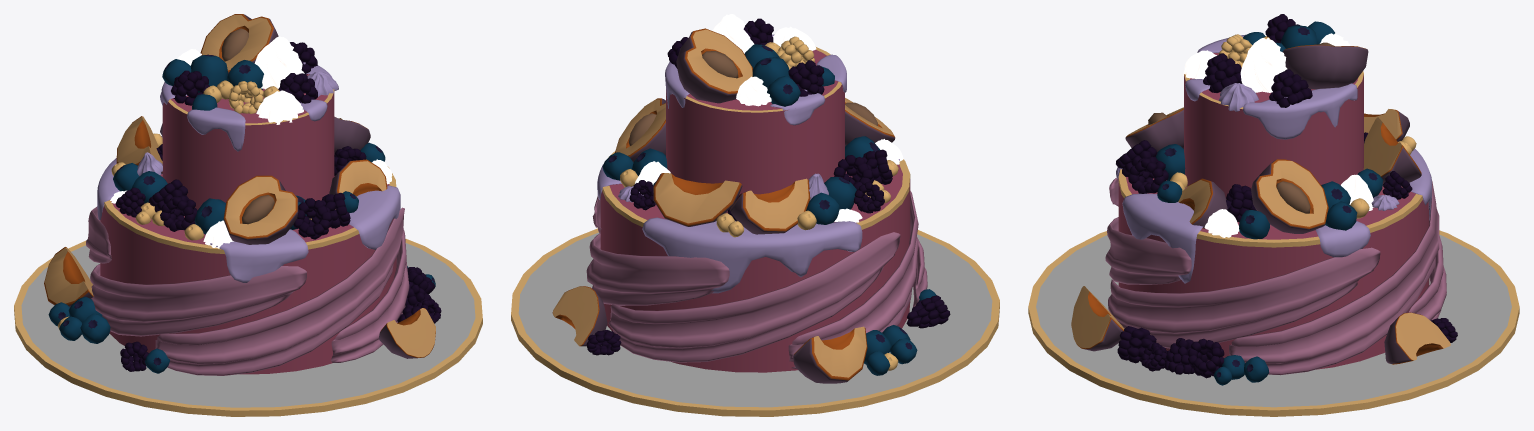
The model's file is fruit_cake_draft.glb.
3 renders of one model, left to right at view 1: azimuth 30°, elevation 25°; view 2: azimuth 150°, elevation 25°; view 3: azimuth 270°, elevation 25°, orthographic. The views are drawn at different scales.
Parts seen in each view (by area): view 1: pCylinder3, polySurface1, pCylinder2, polySurface20, polySurface2, polySurface24, pSphere6, polySurface21, pSphere7, polySurface25, pSphere25, pSphere10 (+30 smaller); view 2: pCylinder3, pCylinder2, polySurface23, polySurface1, polySurface24, polySurface22, pSphere7, polySurface2, pSphere9, pSphere10, pSphere8, pSphere26 (+27 smaller); view 3: pCylinder3, polySurface1, polySurface21, pCylinder2, polySurface22, polySurface24, pSphere18, polySurface20, polySurface25, pSphere7, pSphere26, pSphere25 (+29 smaller).
Boxes of the visible parts, bbox=[...] form: pCylinder3: bbox=[14, 238, 482, 416]; polySurface1: bbox=[100, 166, 396, 374]; pCylinder2: bbox=[162, 74, 334, 209]; polySurface20: bbox=[155, 207, 404, 375]; polySurface2: bbox=[90, 264, 306, 336]; polySurface24: bbox=[97, 136, 400, 282]; pSphere6: bbox=[223, 175, 298, 244]; polySurface21: bbox=[331, 230, 409, 362]; pSphere7: bbox=[200, 14, 278, 74]; polySurface25: bbox=[160, 62, 332, 151]; pSphere25: bbox=[379, 308, 435, 358]; pSphere10: bbox=[44, 247, 93, 307]; pCylinder3: bbox=[511, 228, 999, 416]; pCylinder2: bbox=[666, 47, 844, 213]; polySurface23: bbox=[608, 232, 900, 362]; polySurface1: bbox=[600, 151, 910, 372]; polySurface24: bbox=[597, 159, 899, 293]; polySurface22: bbox=[586, 234, 729, 305]; pSphere7: bbox=[676, 28, 752, 103]; polySurface2: bbox=[788, 191, 918, 368]; pSphere9: bbox=[653, 173, 742, 226]; pSphere10: bbox=[793, 326, 867, 383]; pSphere8: bbox=[730, 178, 810, 234]; pSphere26: bbox=[552, 286, 607, 346]; pCylinder3: bbox=[1028, 230, 1519, 416]; polySurface1: bbox=[1118, 169, 1429, 369]; polySurface21: bbox=[1108, 247, 1380, 348]; pCylinder2: bbox=[1184, 36, 1363, 199]; polySurface22: bbox=[1229, 181, 1439, 375]; polySurface24: bbox=[1116, 148, 1431, 283]; pSphere18: bbox=[1251, 159, 1328, 233]; polySurface20: bbox=[1105, 217, 1191, 284]; polySurface25: bbox=[1185, 34, 1357, 139]; pSphere7: bbox=[1282, 42, 1368, 89]; pSphere26: bbox=[1384, 312, 1450, 364]; pSphere25: bbox=[1071, 286, 1124, 351].
Bounding box in the file's own units: 6.03 × 3.91 × 6.03.
